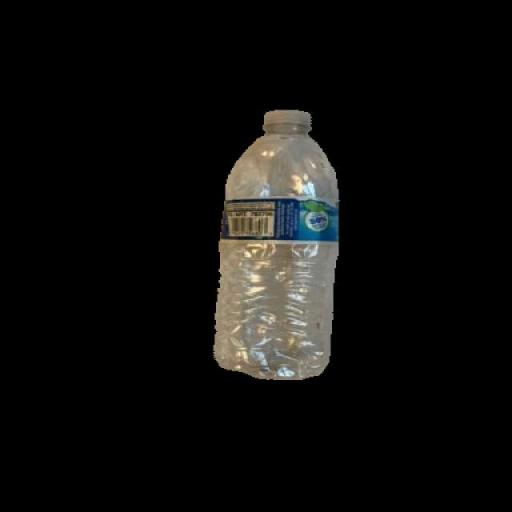plastic: (212, 108, 346, 382)
